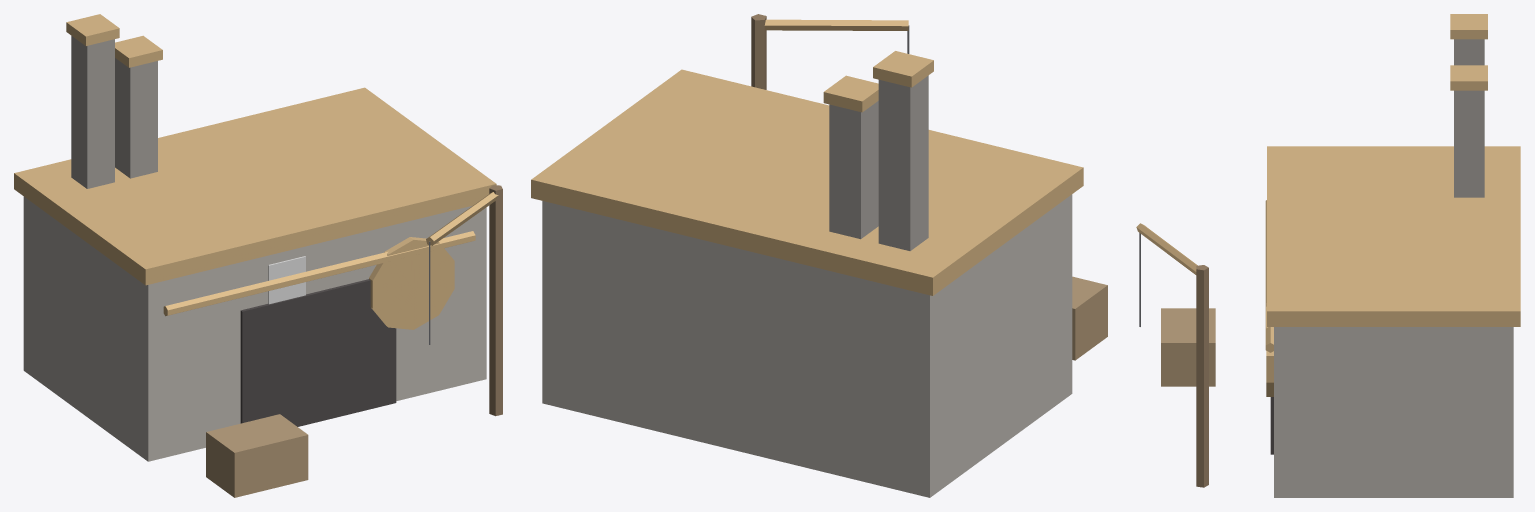
3 views of the same model, side by side, from view 1: azimuth 30°, elevation 25°; view 2: azimuth 150°, elevation 25°; view 3: azimuth 270°, elevation 25° (orthographic). The views are drawn at different scales.
Visible parts, largest first — view 1: body; view 2: body; view 3: body.
Boxes of the visible parts, left/top/right/bottom form: body: left=14, top=14, right=502, bottom=497; body: left=531, top=14, right=1107, bottom=497; body: left=1136, top=14, right=1520, bottom=497.
Size of the model in its own units: 11.4 by 10.9 by 11.22.
